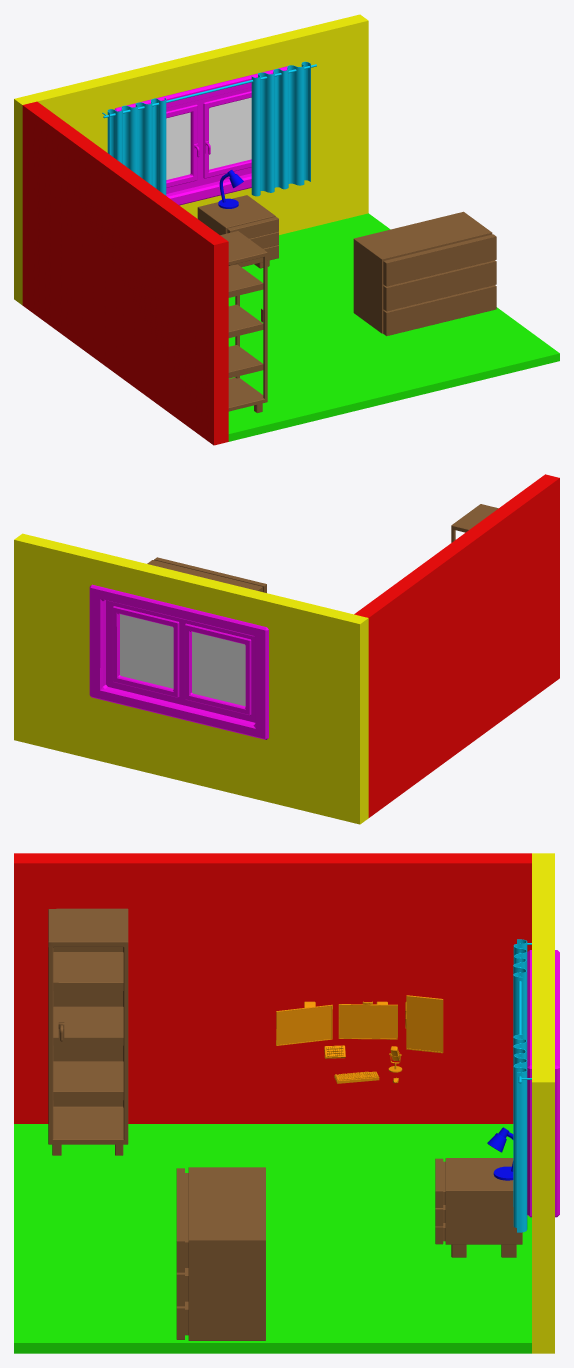
Rendered from RoomModel.fbx.
3 renders of one model, top to bottom at view 1: azimuth 30°, elevation 25°; view 2: azimuth 150°, elevation 25°; view 3: azimuth 270°, elevation 25°, orthographic. The views are drawn at different scales.
Visible parts, largest first — view 1: FullWall, Floorboard, WindowWall, Closet, RightBlind, DisplayCase, LeftBlind, BedsideCabinet, GlassR, WindowFrameOutside, GlassL, WindowFrameInside (+2 smaller); view 2: WindowWall, FullWall, WindowFrameOutside, GlassR, GlassL, WindowFrameInside, WindowRight, WindowLeft, Closet, DisplayCase; view 3: FullWall, Floorboard, DisplayCase, Closet, WindowWall, BedsideCabinet, Monitor (×3), RightBlind, WindowFrameOutside, LeftBlind, Lamp.
Boxes of the visible parts, x1,y1,x2,y2 form: FullWall: (22, 101, 228, 445); Floorboard: (228, 213, 559, 441); WindowWall: (14, 14, 368, 305); Closet: (353, 211, 496, 336); RightBlind: (251, 61, 310, 196); DisplayCase: (220, 231, 267, 412); LeftBlind: (107, 98, 166, 195); BedsideCabinet: (197, 195, 278, 268); GlassR: (209, 97, 251, 169); WindowFrameOutside: (114, 66, 287, 205); GlassL: (166, 112, 190, 179); WindowFrameInside: (166, 87, 251, 193); WindowWall: (14, 533, 368, 824); FullWall: (354, 474, 559, 817); WindowFrameOutside: (89, 584, 268, 739); GlassR: (120, 614, 173, 688); GlassL: (192, 631, 245, 706); WindowFrameInside: (106, 600, 255, 722); WindowRight: (112, 606, 179, 697); WindowLeft: (184, 623, 251, 715); Closet: (147, 557, 266, 592); DisplayCase: (451, 504, 498, 542); FullWall: (14, 853, 531, 1123); Floorboard: (14, 1124, 531, 1353); DisplayCase: (48, 908, 128, 1155); Closet: (176, 1167, 265, 1340); WindowWall: (532, 853, 554, 1353); BedsideCabinet: (435, 1158, 522, 1257); Monitor (×3): (276, 995, 443, 1053); RightBlind: (513, 1034, 527, 1232); WindowFrameOutside: (527, 950, 559, 1217); LeftBlind: (513, 939, 527, 1059); Lamp: (487, 1127, 513, 1180).
Bounding box in the file's own units: 4.7 × 2.6 × 4.74.
